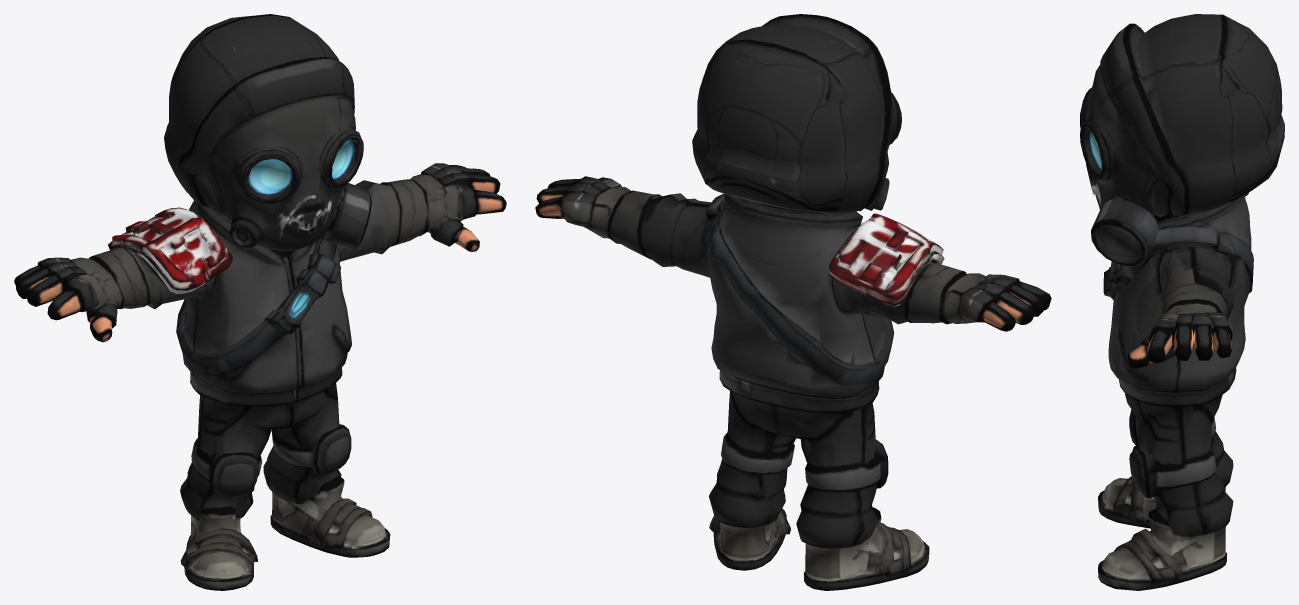
Rendered from Hush.fbx.
The picture shows the model from 3 angles, left to right: view 1: azimuth 30°, elevation 25°; view 2: azimuth 150°, elevation 25°; view 3: azimuth 270°, elevation 25°; orthographic projection. The views are drawn at different scales.
Visible parts, largest first — view 1: Hush; view 2: Hush; view 3: Hush.
Part boxes in pixels (<box>): Hush: <box>14,14,506,590</box>; Hush: <box>535,14,1051,590</box>; Hush: <box>1080,14,1284,590</box>.
Bounding box in the file's own units: 1.74 × 1.8 × 0.6469.
Materials: 1 (1 with a texture image).
